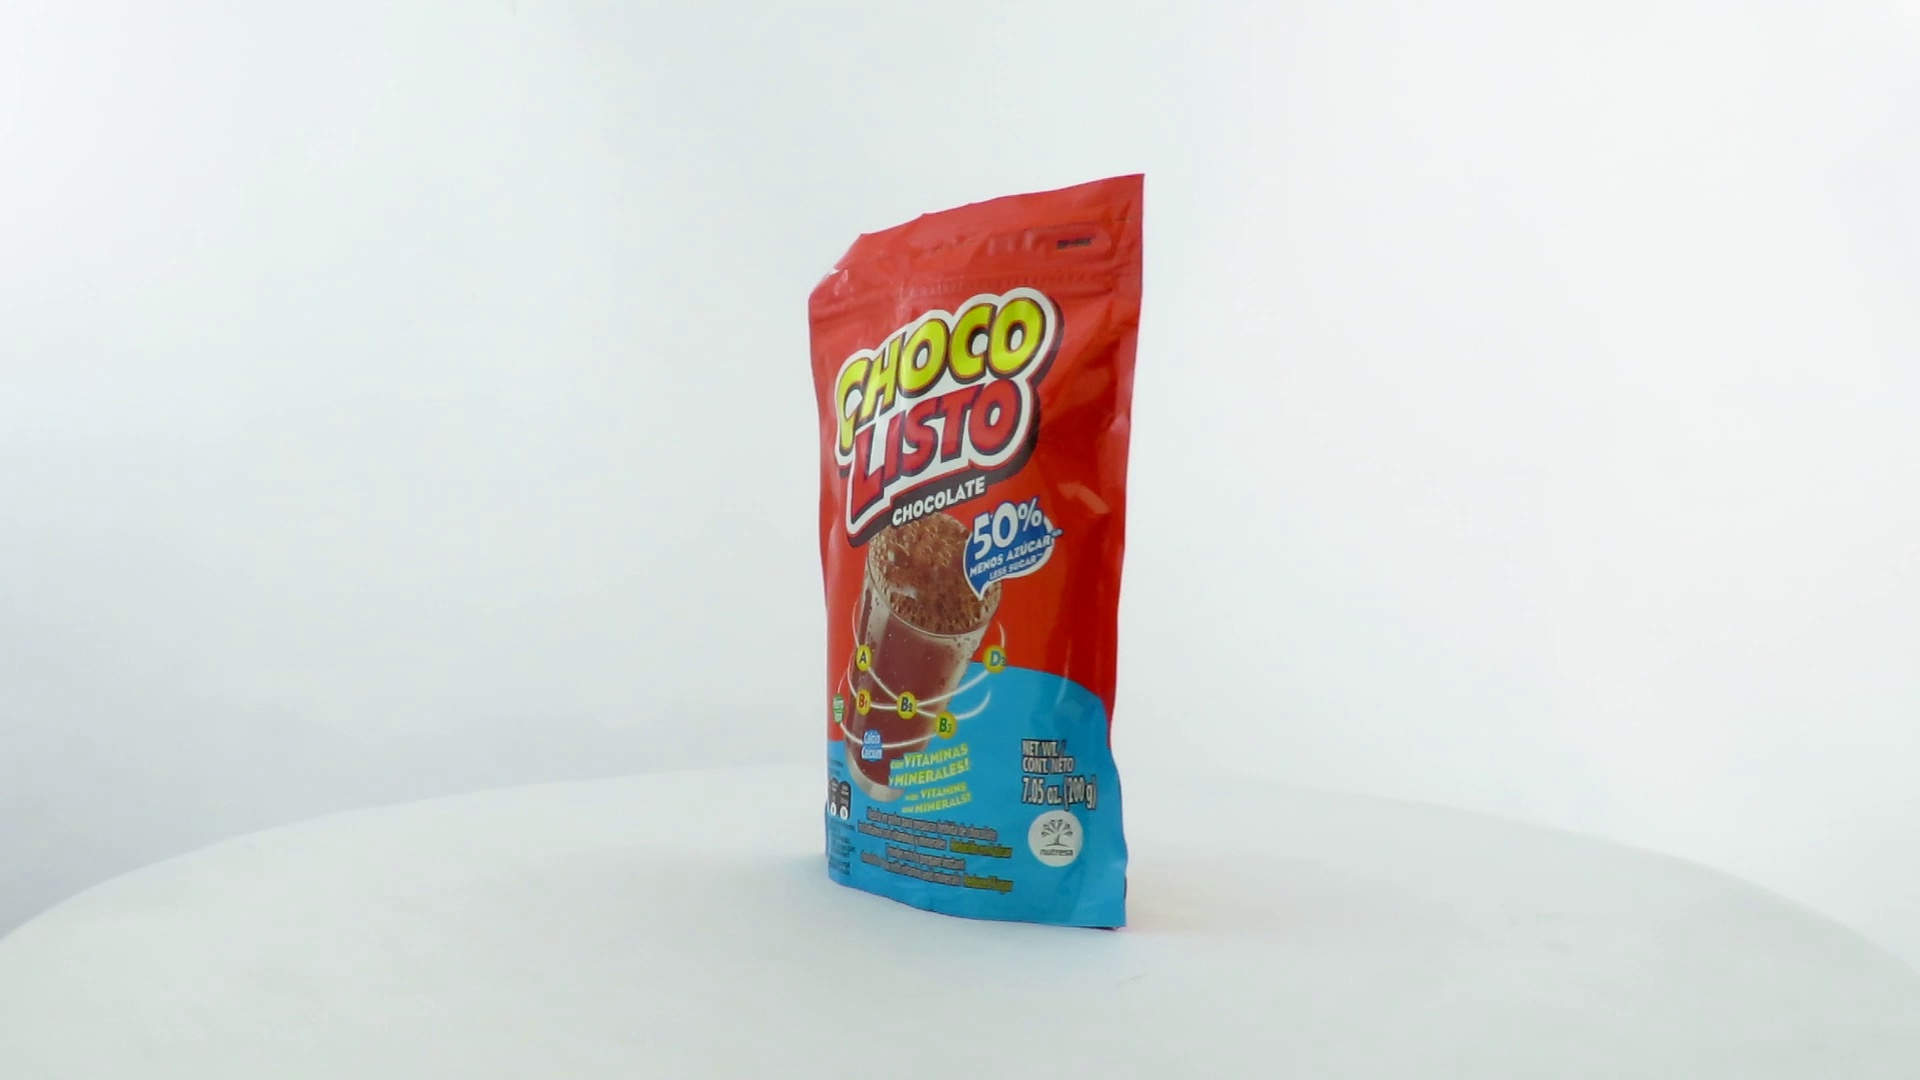COL0170104DYP20000: (803, 167, 1151, 940)
